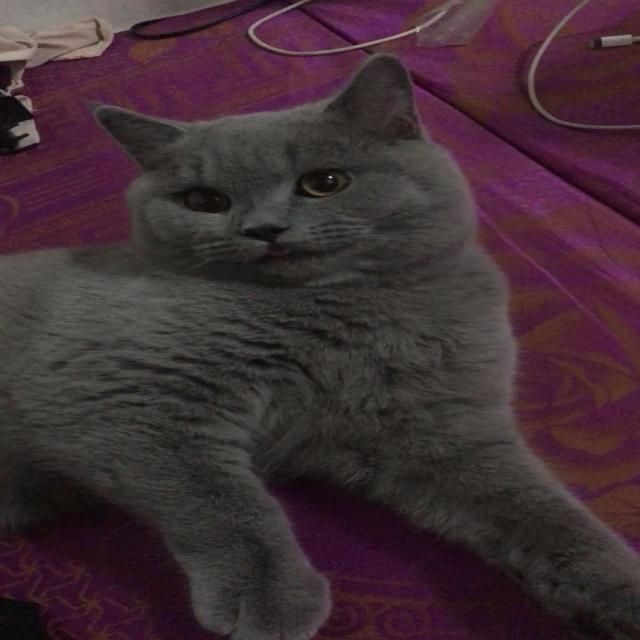british shorthair: (35, 45, 612, 618)
